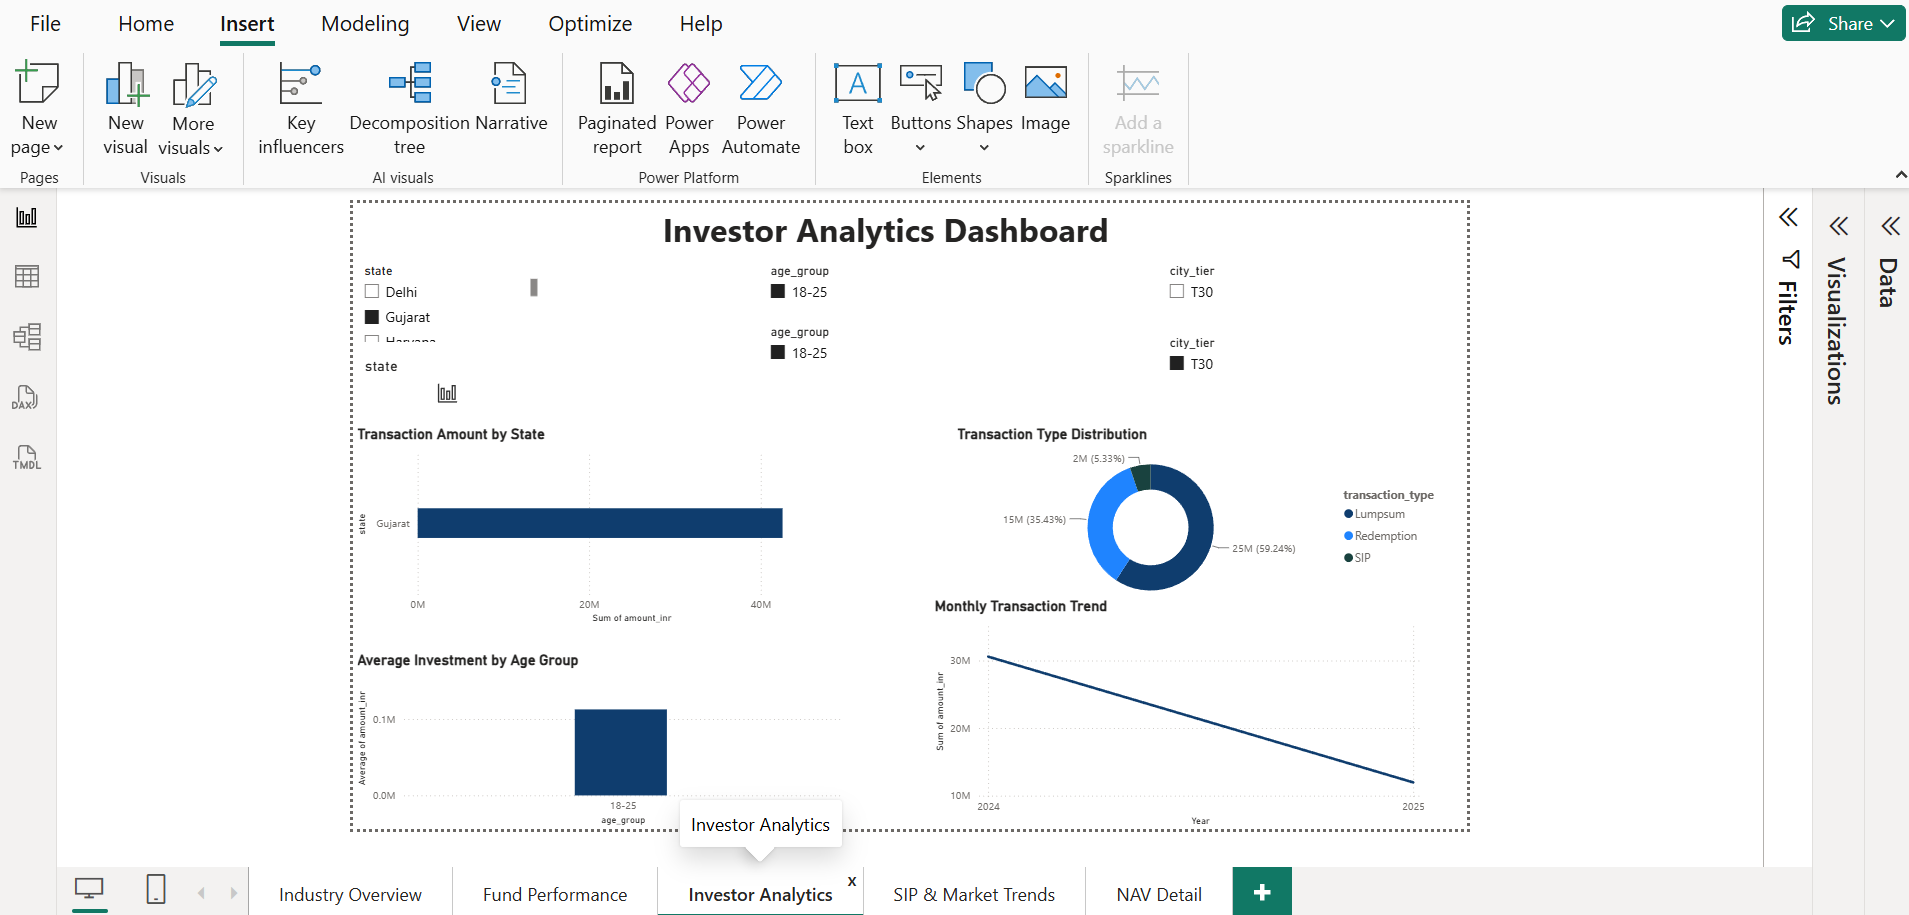

This screenshot's page, from the dashboard's own definition file:
{"tool":"powerbi","page":{"name":"Investor Analytics","canvas":[1280,720],"ordinal":2},"visuals":[{"type":"textbox","box":[260.7,0,704.4,85.8],"z":0},{"type":"slicer","fields":{"Values":["08_investor_transactions.state"]},"box":[0,64.3,217.3,100.2],"z":1000},{"type":"slicer","fields":{"Values":["08_investor_transactions.age_group"]},"box":[466.8,64.3,300.5,69.9],"z":2000},{"type":"slicer","fields":{"Values":["08_investor_transactions.city_tier"]},"box":[926,64.3,300.5,139.8],"z":3000},{"type":"clusteredBarChart","fields":{"Category":["08_investor_transactions.state"]},"box":[9.4,177.6,200.3,62.4],"z":4000},{"type":"slicer","fields":{"Values":["08_investor_transactions.age_group"]},"box":[466.8,134.2,289.1,86.9],"z":5000},{"type":"slicer","fields":{"Values":["08_investor_transactions.city_tier"]},"box":[926,147.4,255.1,88.8],"z":6000},{"type":"clusteredBarChart","title":"Transaction Amount by State","fields":{"Category":["08_investor_transactions.state"],"Y":["Sum(08_investor_transactions.amount_inr)"]},"box":[0,255.1,583.9,232.4],"z":7000},{"type":"donutChart","title":"Transaction Type Distribution","fields":{"Category":["08_investor_transactions.transaction_type"],"Y":["Sum(08_investor_transactions.amount_inr)"]},"box":[689.8,255.1,572.6,215.4],"z":8000},{"type":"clusteredColumnChart","title":"Average Investment by Age Group","fields":{"Category":["08_investor_transactions.age_group"],"Y":["Avg(08_investor_transactions.amount_inr)"]},"box":[0,515.9,566.9,204.1],"z":9000},{"type":"lineChart","title":"Monthly Transaction Trend","fields":{"Category":["08_investor_transactions.transaction_date.Variation.Date Hierarchy.Year","08_investor_transactions.transaction_date.Variation.Date Hierarchy.Quarter","08_investor_transactions.transaction_date.Variation.Date Hierarchy.Month","08_investor_transactions.transaction_date.Variation.Date Hierarchy.Day"],"Y":["Sum(08_investor_transactions.amount_inr)"]},"box":[663.3,453.5,572.6,266.5],"z":10000}]}

Visuals, with their boxes on the page's 1280x720 design canvas (x1, y1, x2, y2). These are canvas units, not pixel positions in the 1909x915 screenshot, which may show the page scaled, cropped or inside an application window:
textbox: 261:0:965:86
slicer - 08_investor_transactions.state: 0:64:217:164
slicer - 08_investor_transactions.age_group: 467:64:767:134
slicer - 08_investor_transactions.city_tier: 926:64:1226:204
clusteredBarChart - 08_investor_transactions.state: 9:178:210:240
slicer - 08_investor_transactions.age_group: 467:134:756:221
slicer - 08_investor_transactions.city_tier: 926:147:1181:236
"Transaction Amount by State" clusteredBarChart: 0:255:584:488
"Transaction Type Distribution" donutChart: 690:255:1262:470
"Average Investment by Age Group" clusteredColumnChart: 0:516:567:720
"Monthly Transaction Trend" lineChart: 663:454:1236:720
